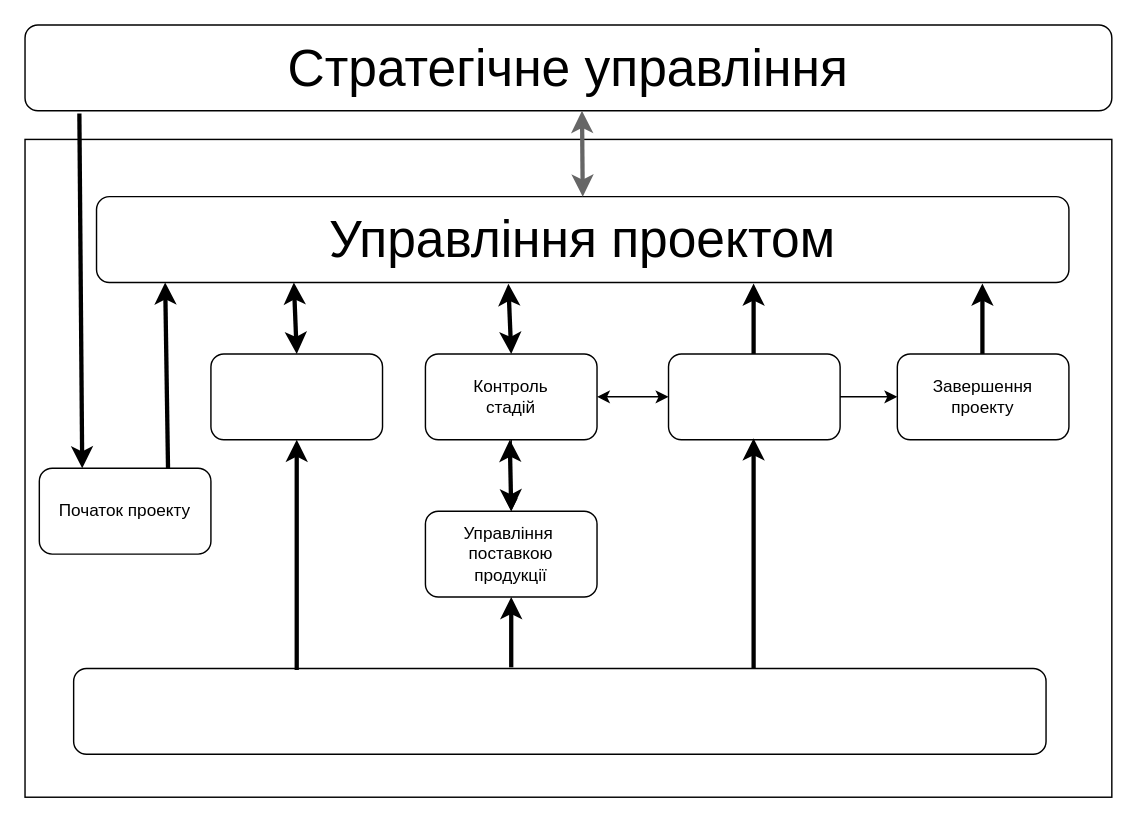
The diagram is 1137 pixels wide and 822 high, and some of its shapes have lost their labels. Each missing label, with the centre of its shape:
Планування: the point at 559,710
Управління границями стадій: the point at 753,396
Ініціалізація проекту: the point at 296,396
